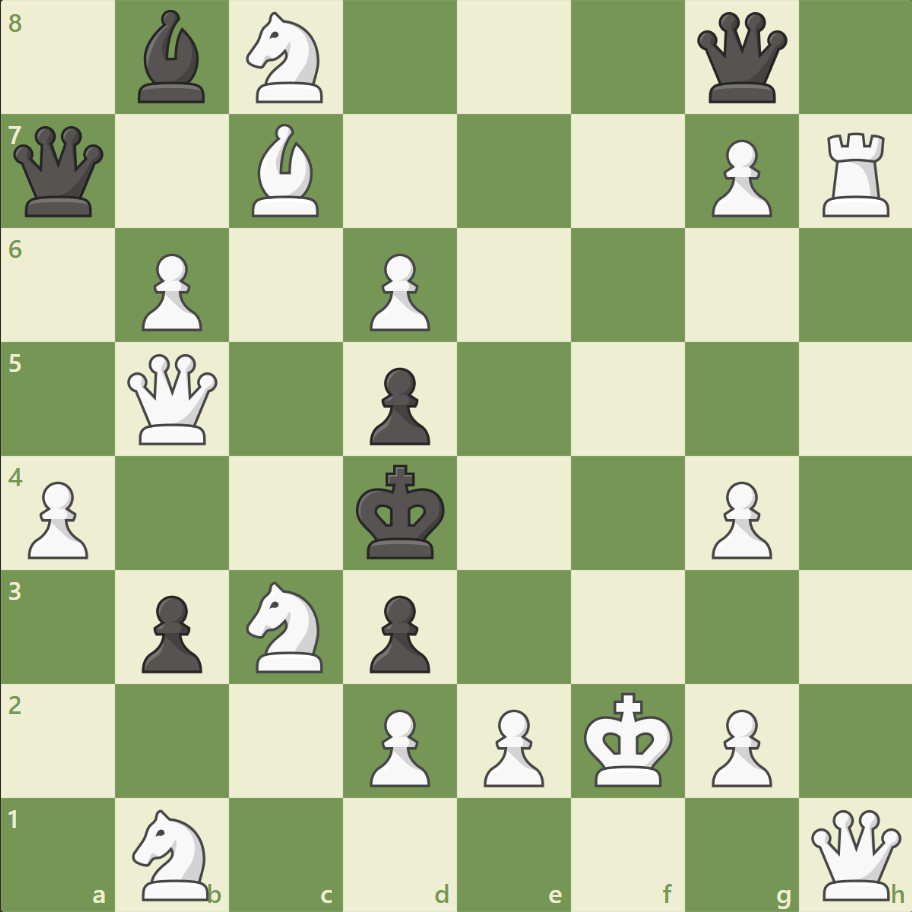B: (244, 120, 328, 222)
K: (579, 685, 679, 793)
N: (124, 802, 222, 904), (238, 7, 335, 110), (238, 575, 335, 677)
P: (701, 132, 776, 223), (133, 246, 208, 337), (20, 473, 95, 564), (701, 473, 776, 564), (474, 700, 549, 791), (701, 700, 776, 791), (361, 246, 435, 337), (361, 700, 435, 791)
Q: (124, 349, 223, 449), (805, 804, 904, 903)
R: (814, 125, 897, 222)
b: (131, 6, 215, 109)
k: (351, 458, 451, 566)
p: (133, 586, 208, 677), (361, 359, 435, 450), (361, 586, 435, 677)
q: (10, 122, 109, 222), (691, 9, 790, 108)
